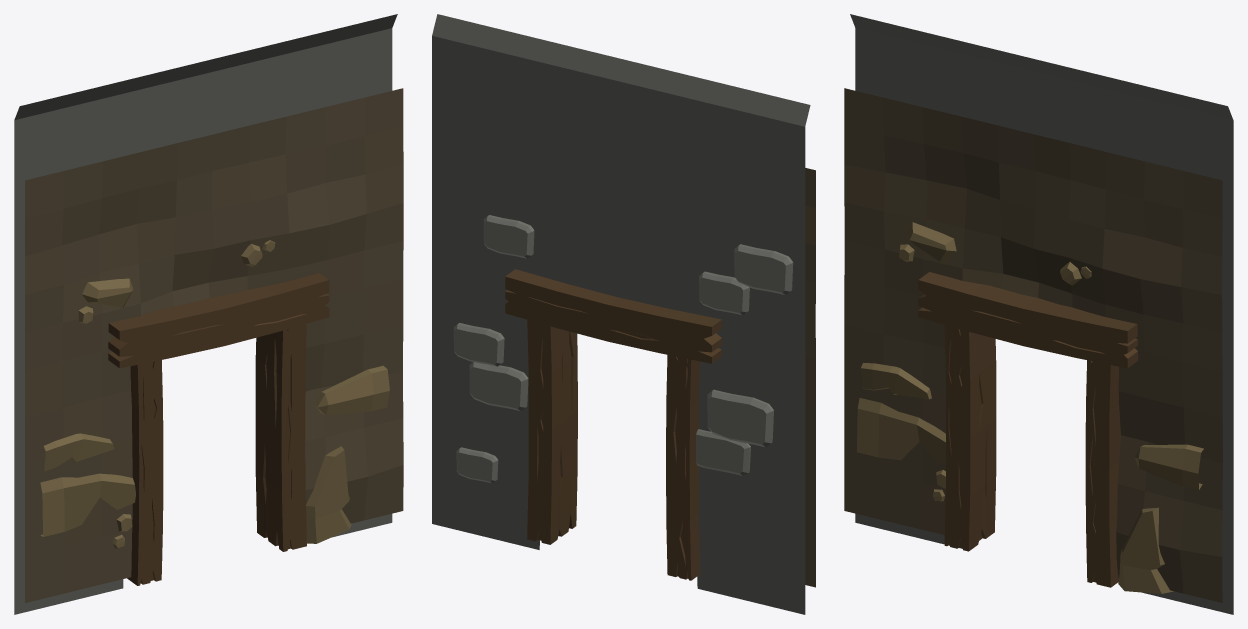
File: Basement_Passage_Mix.glb
The picture shows the model from 3 angles, left to right: view 1: azimuth 30°, elevation 25°; view 2: azimuth 150°, elevation 25°; view 3: azimuth 330°, elevation 25°; orthographic projection.
Visible parts, largest first — view 1: Basement_Passage_Mix.001; view 2: Basement_Passage_Mix.001; view 3: Basement_Passage_Mix.001.
Part boxes in pixels (x1=…): Basement_Passage_Mix.001: x1=14, y1=14, x2=403, y2=614; Basement_Passage_Mix.001: x1=432, y1=14, x2=815, y2=614; Basement_Passage_Mix.001: x1=844, y1=14, x2=1233, y2=614.
Size of the model in its own units: 4 by 5.18 by 0.5789.
3 materials, 3 textured.
